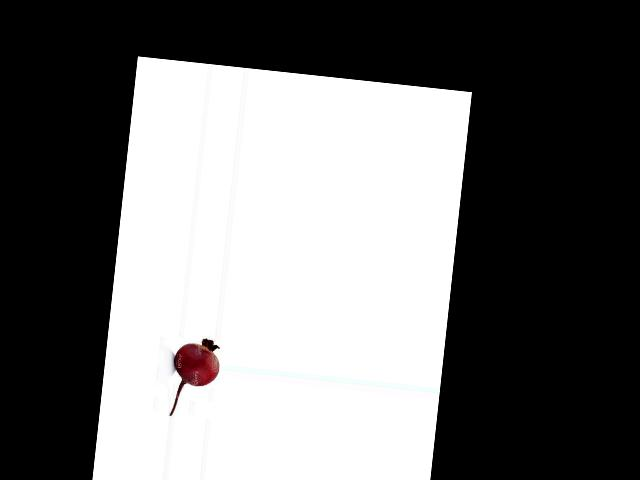beet: (168, 335, 221, 419)
